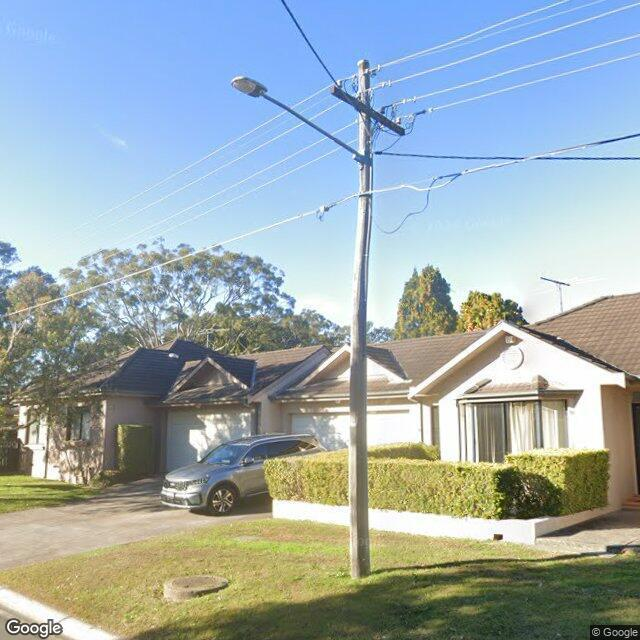crossarm: (329, 86, 406, 138)
streetlight: (230, 75, 366, 165)
timber-pole: (350, 60, 372, 580)
